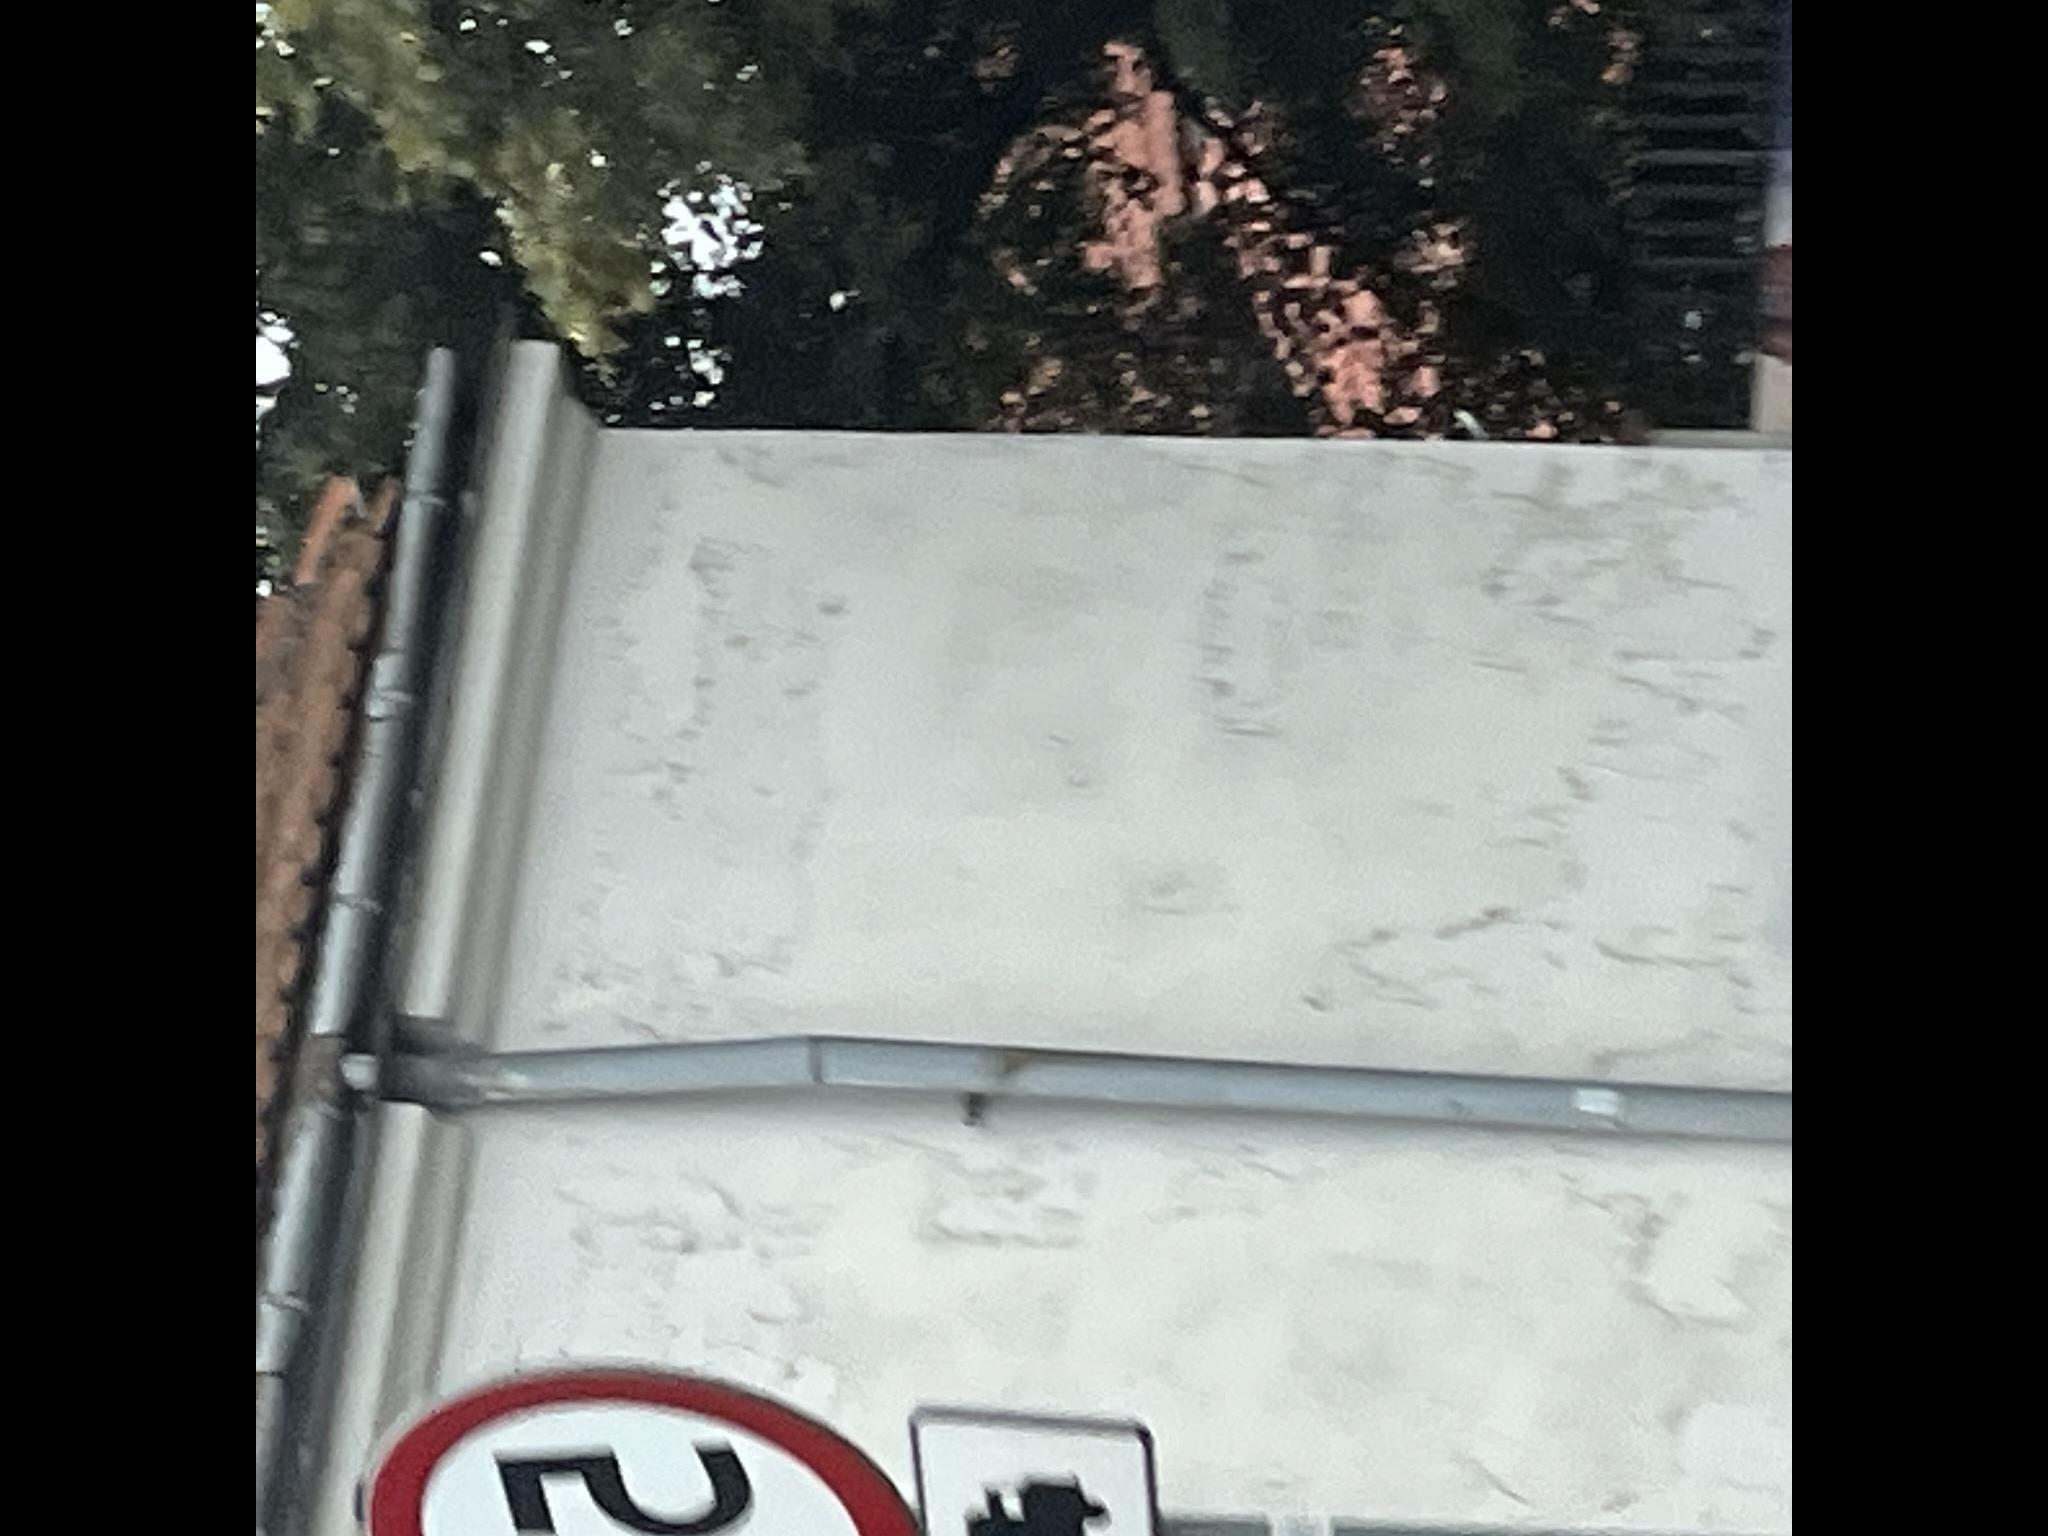other: (906, 1402, 1176, 1536)
prohibitory: (360, 1356, 926, 1536)
